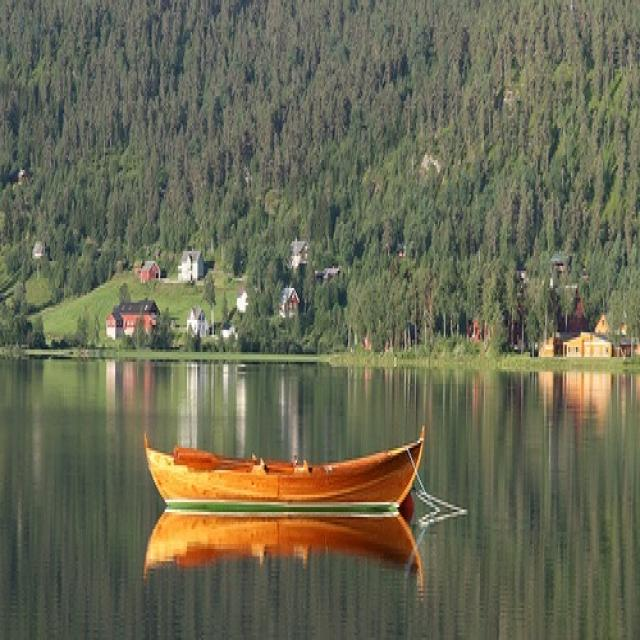boat: (145, 426, 426, 512)
